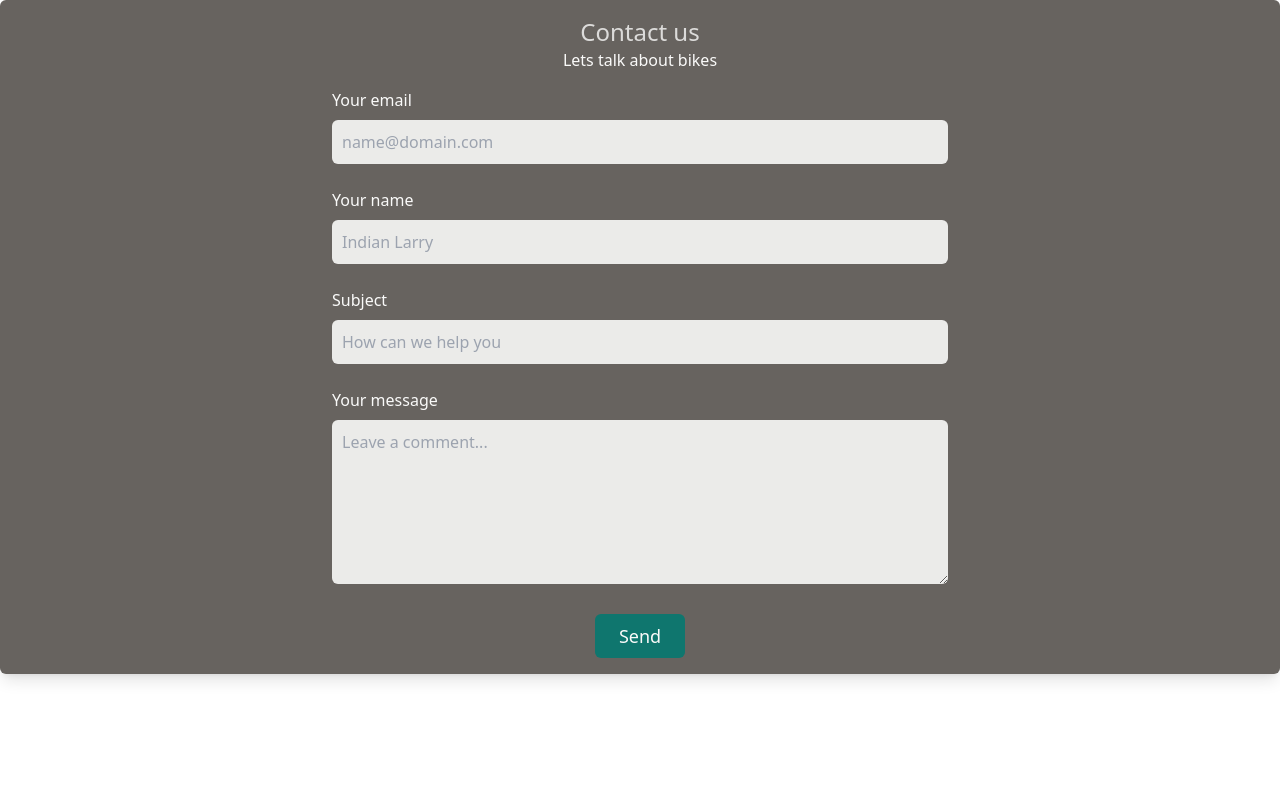
Test: ContactPage › validator should display message for empty email input and prevent submission on click
In the field with test id "senderName": [640, 242] box [332, 220, 948, 264], type "valid input"
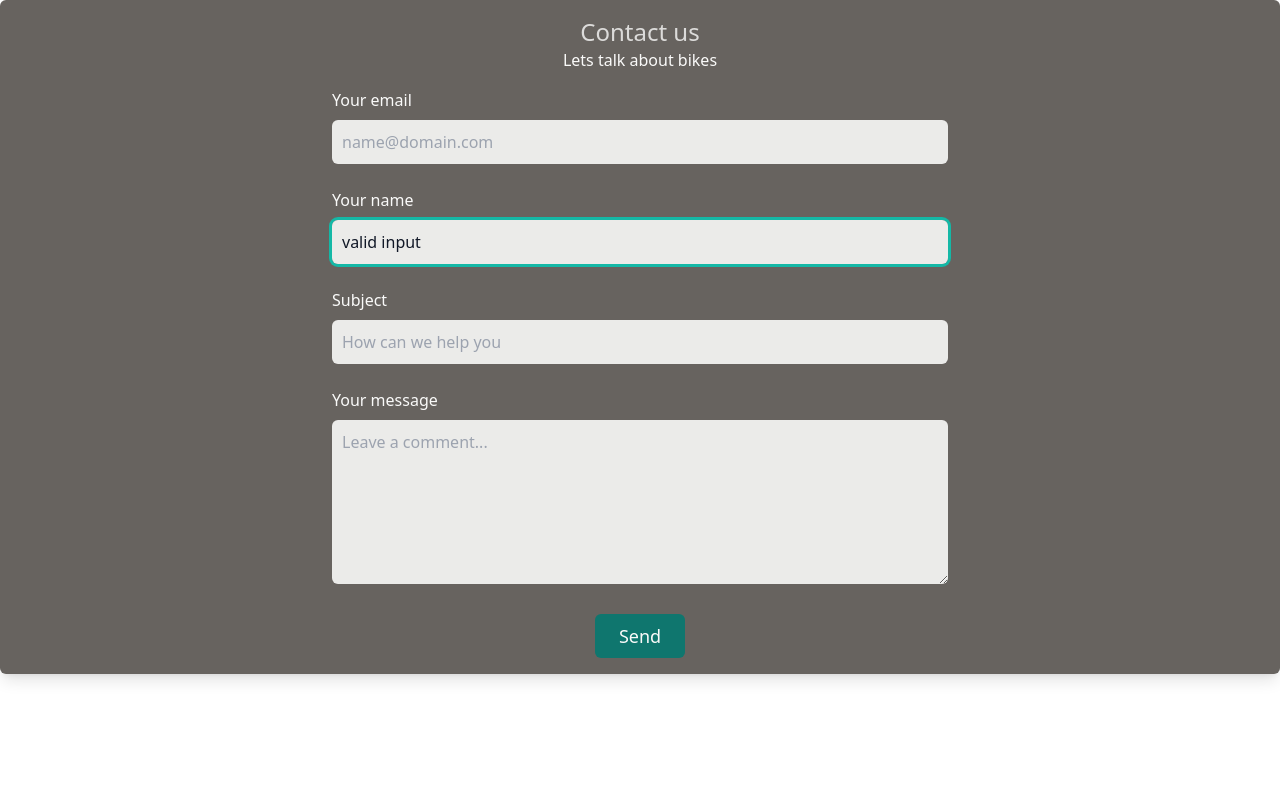
In the field with test id "subject": [640, 342] box [332, 320, 948, 364], type "valid input"
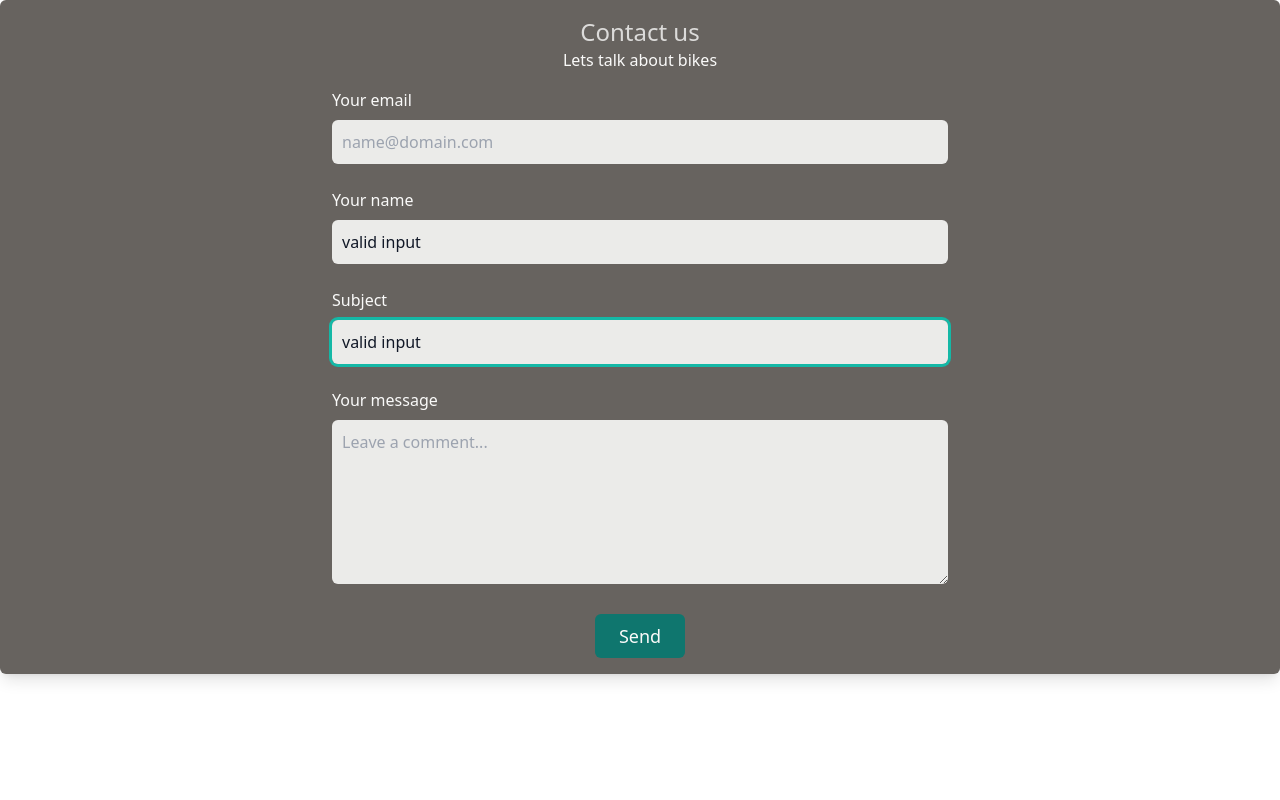
In the text box with test id "message": [640, 502] box [332, 420, 948, 584], type "valid input"
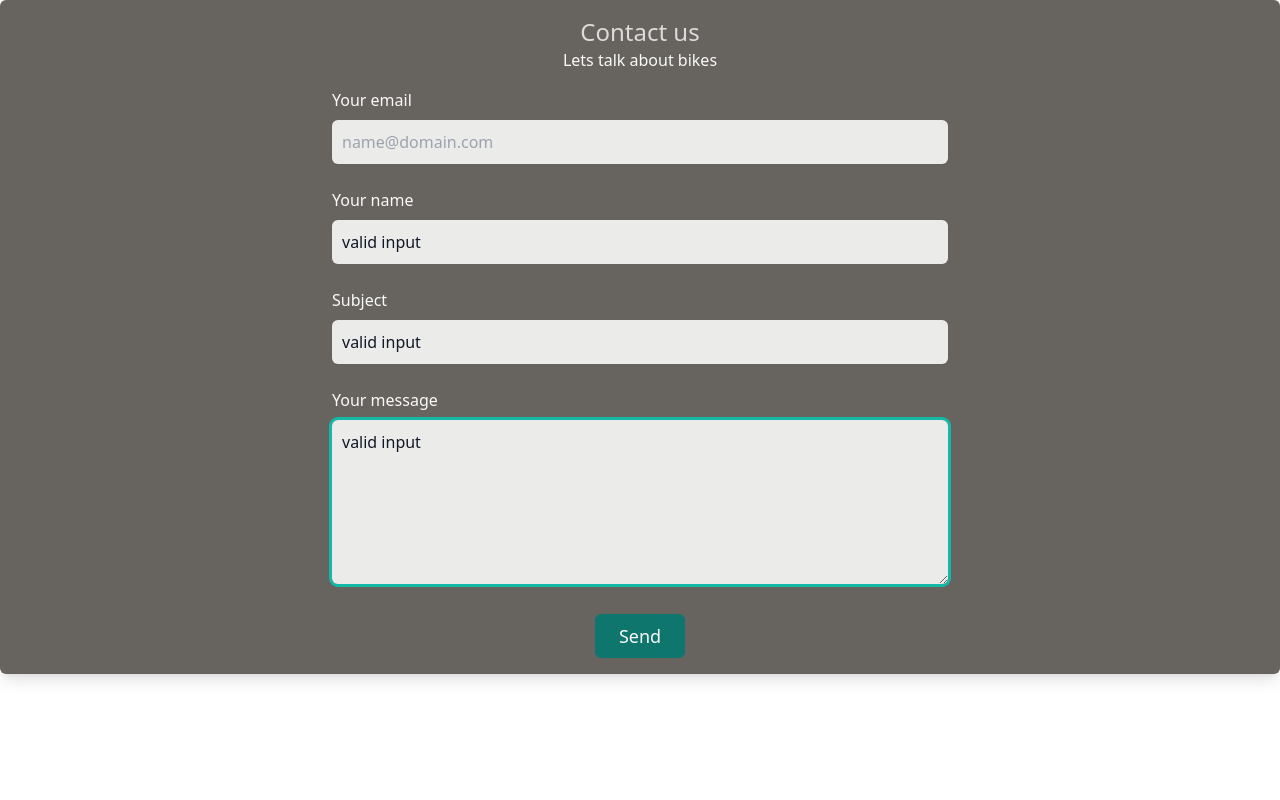
Click the button with test id "contact-form-submit-button": [640, 636] box [595, 614, 685, 658]
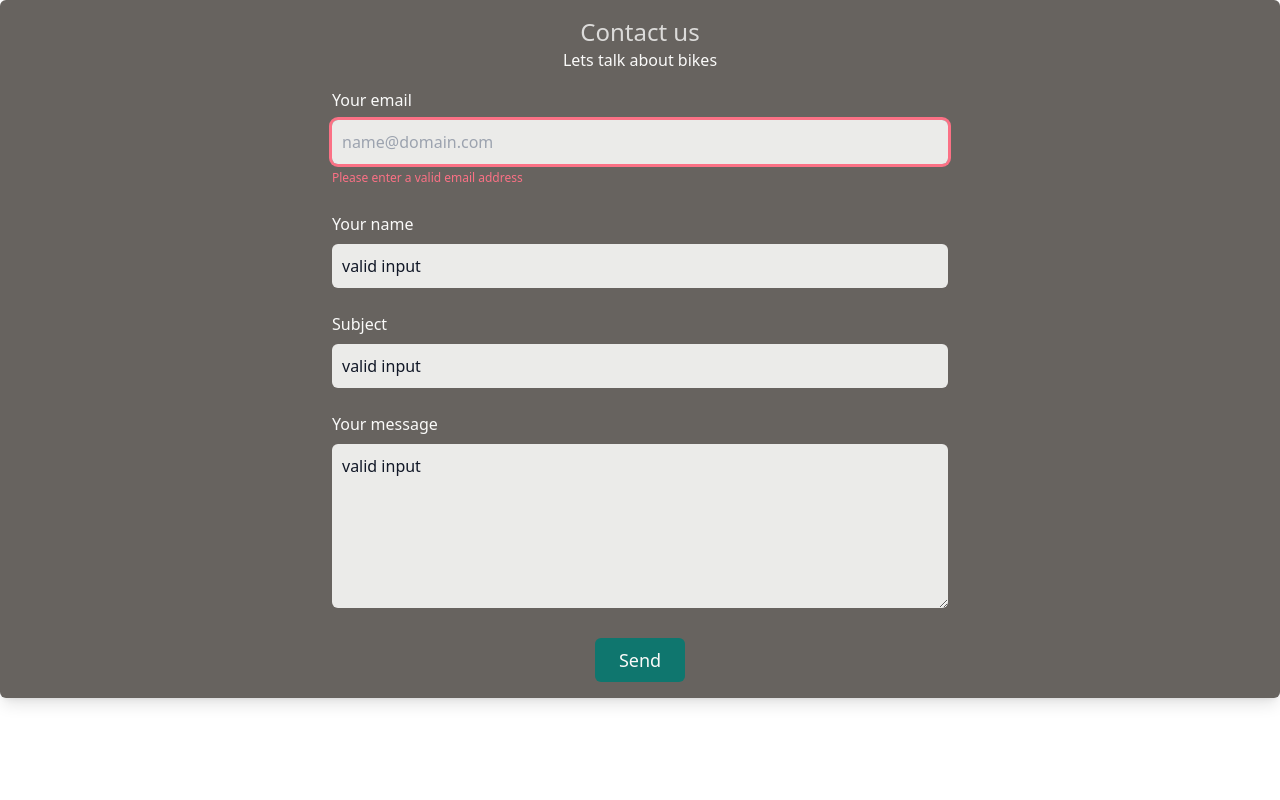
Check: the text "Please enter a valid email address" is shown, box [332, 169, 523, 186]
